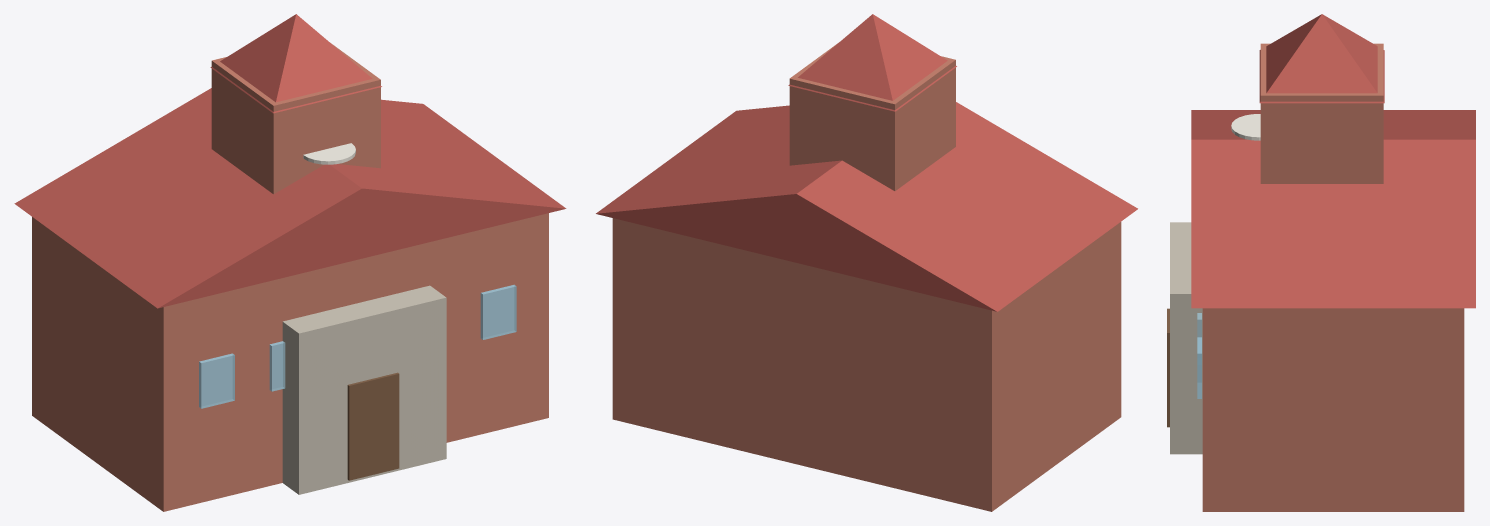
The model's file is school-clocktower.glb.
3 renders of one model, left to right at view 1: azimuth 30°, elevation 25°; view 2: azimuth 150°, elevation 25°; view 3: azimuth 270°, elevation 25°, orthographic.
Parts seen in each view (by area): view 1: School_Main, School_Main_Roof, School_Entry, School_Tower, School_Tower_Roof, School_Door, School_Window_4.2, School_Window_-4.2, School_Window_-2.1, School_Clock_Face; view 2: School_Main, School_Main_Roof, School_Tower, School_Tower_Roof; view 3: School_Main, School_Main_Roof, School_Tower, School_Tower_Roof, School_Entry, School_Clock_Face, School_Door.
Boxes of the visible parts, left/top/right/bottom form: School_Main: left=32, top=213, right=548, bottom=511; School_Main_Roof: left=14, top=88, right=566, bottom=308; School_Entry: left=282, top=285, right=446, bottom=494; School_Tower: left=211, top=43, right=380, bottom=194; School_Tower_Roof: left=210, top=14, right=381, bottom=113; School_Door: left=347, top=372, right=399, bottom=480; School_Window_4.2: left=480, top=284, right=516, bottom=339; School_Window_-4.2: left=199, top=353, right=234, bottom=408; School_Window_-2.1: left=269, top=341, right=285, bottom=391; School_Clock_Face: left=303, top=143, right=355, bottom=164; School_Main: left=612, top=218, right=1121, bottom=511; School_Main_Roof: left=596, top=102, right=1137, bottom=311; School_Tower: left=789, top=43, right=955, bottom=190; School_Tower_Roof: left=788, top=14, right=956, bottom=111; School_Main: left=1202, top=308, right=1464, bottom=511; School_Main_Roof: left=1191, top=110, right=1475, bottom=308; School_Tower: left=1260, top=43, right=1383, bottom=183; School_Tower_Roof: left=1259, top=14, right=1384, bottom=103; School_Entry: left=1170, top=222, right=1202, bottom=454; School_Clock_Face: left=1231, top=114, right=1260, bottom=140; School_Door: left=1167, top=308, right=1169, bottom=427.
Size of the model in its own units: 12.2 by 11.6 by 8.03.
